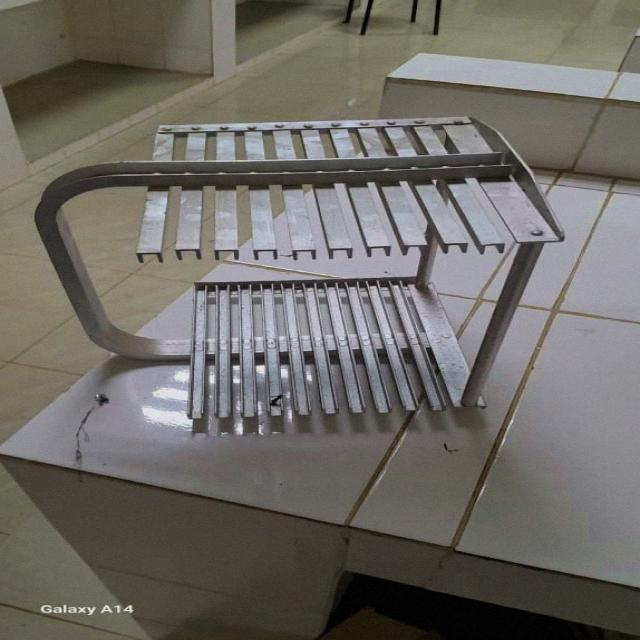Plate Rack: (32, 109, 576, 432)
